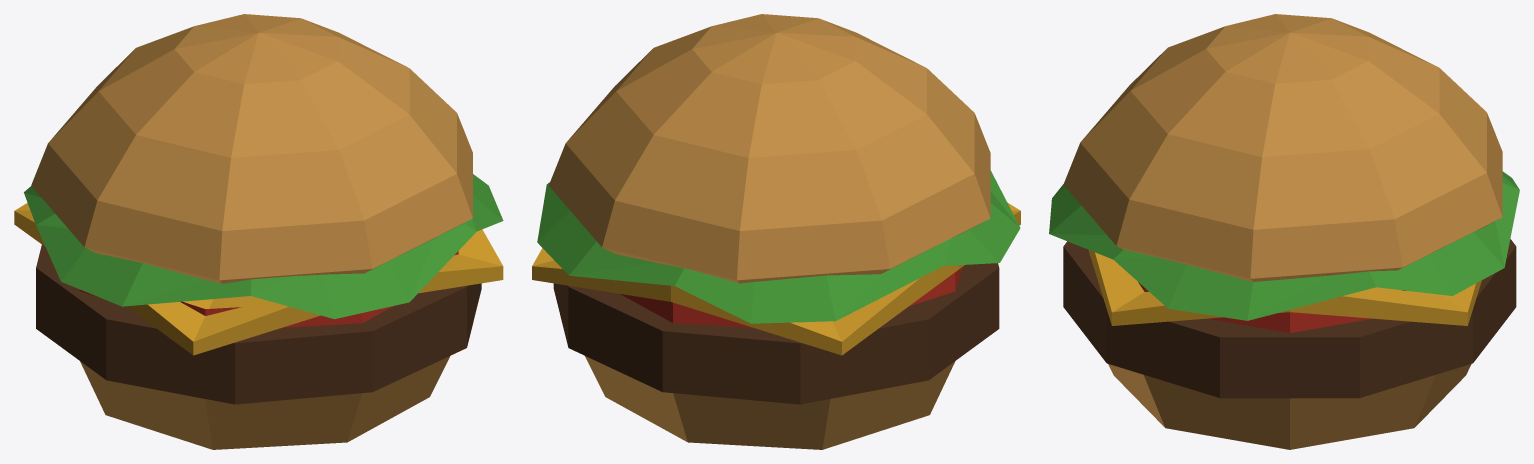
Rendered from hamburger-060fd6.glb.
3 views of the same model, side by side, from view 1: azimuth 30°, elevation 25°; view 2: azimuth 150°, elevation 25°; view 3: azimuth 270°, elevation 25° (orthographic).
Bounding box in the file's own units: 0.1148 × 0.0902 × 0.1123.
